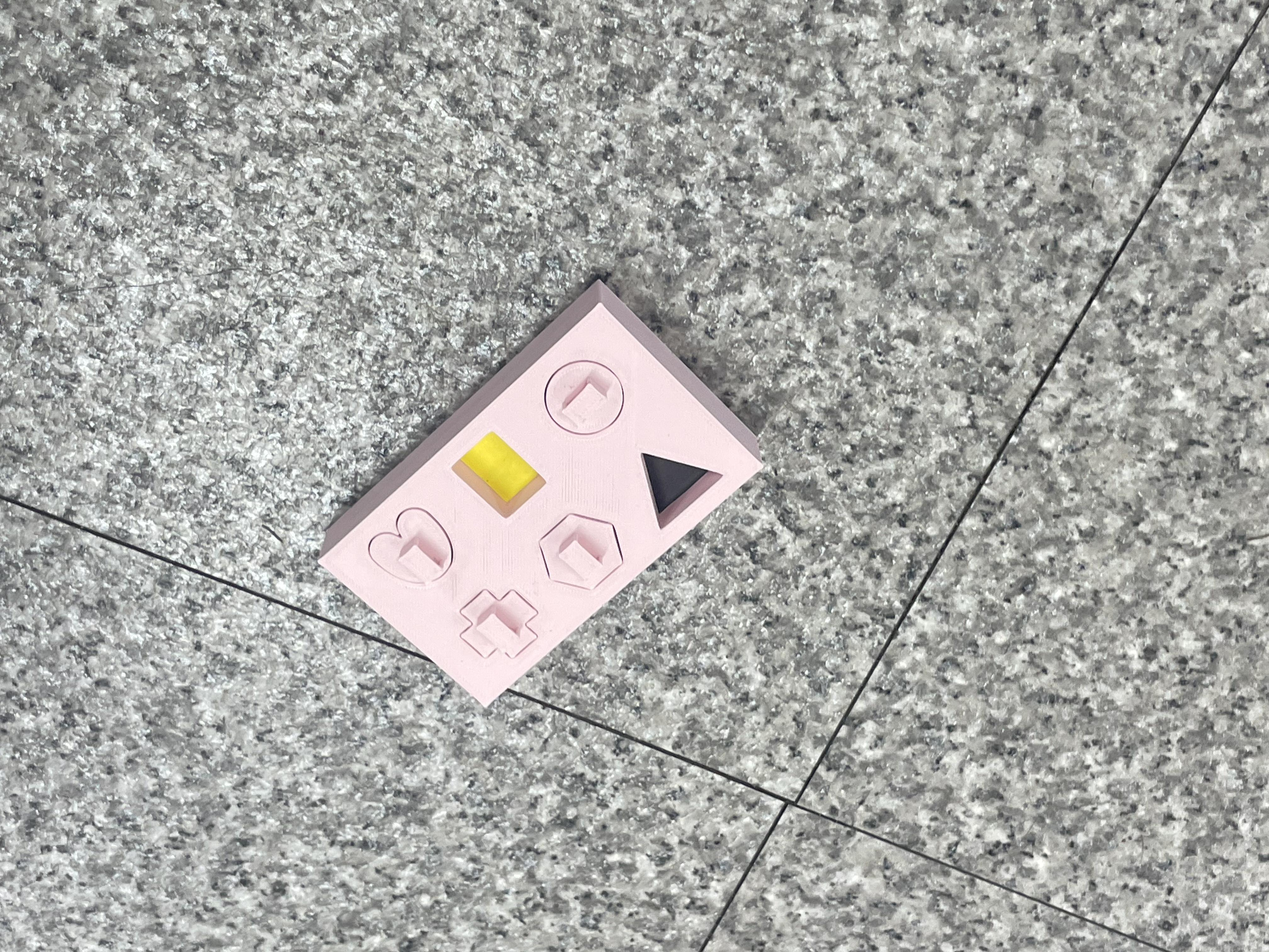unsolved: (312, 298, 769, 720)
